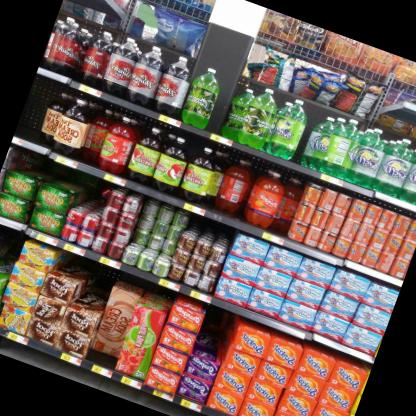empty_space: (14, 71, 56, 141), (205, 77, 249, 138), (289, 110, 332, 168)
